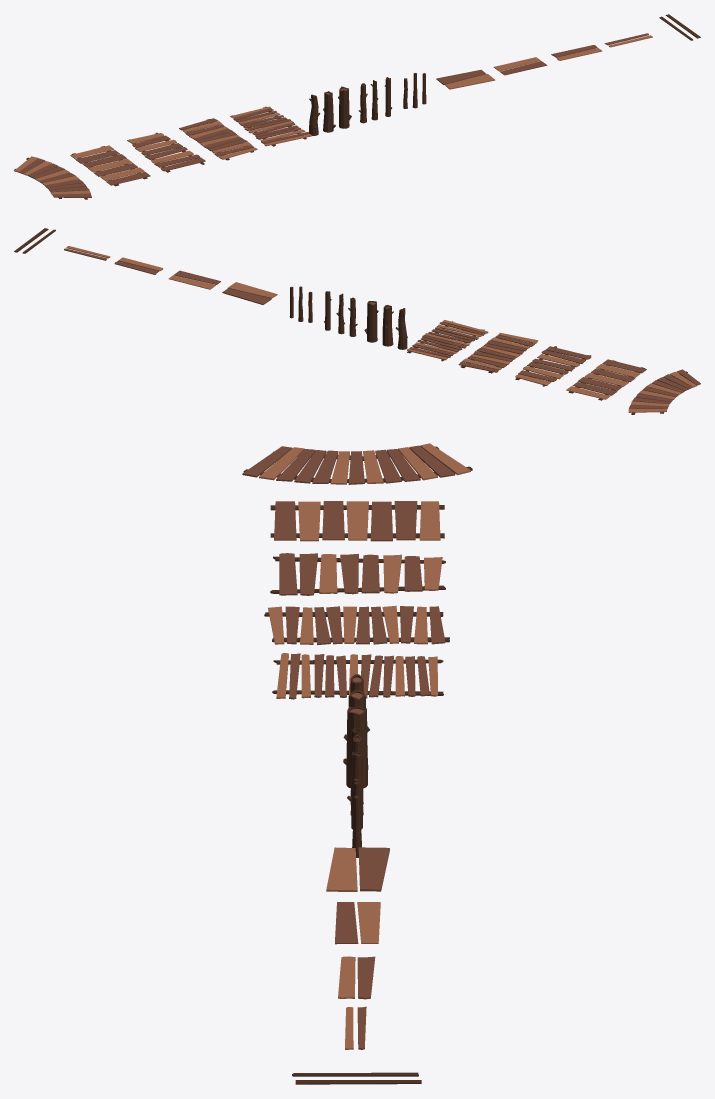
File: Boards.fbx
3 views of the same model, one above another, from view 1: azimuth 30°, elevation 25°; view 2: azimuth 150°, elevation 25°; view 3: azimuth 270°, elevation 25° (orthographic). The views are drawn at different scales.
Visible parts, largest first — view 1: Passage_01, Passage_04, Passage_05, Passage_02, Passage_03, Log_Type 1_01, Log_Type 1_02, Board_Type 4_02, Log_Type 1_03, Board_Type 4_01; view 2: Passage_01, Passage_04, Passage_05, Passage_02, Passage_03, Log_Type 1_01, Log_Type 1_02, Board_Type 4_01, Log_Type 1_03, Board_Type 4_02; view 3: Passage_05, Passage_04, Passage_02, Passage_03, Passage_01, Board_Type 4_01, Board_Type 4_02, Log_Type 1_01.
Part boxes in pixels (x1,y1,x2,y2): Passage_01: [230, 106, 312, 146]; Passage_04: [70, 145, 150, 186]; Passage_05: [14, 156, 91, 199]; Passage_02: [179, 118, 257, 160]; Passage_03: [127, 132, 205, 172]; Log_Type 1_01: [338, 86, 351, 128]; Log_Type 1_02: [323, 91, 335, 132]; Board_Type 4_02: [445, 74, 495, 89]; Log_Type 1_03: [309, 94, 320, 135]; Board_Type 4_01: [436, 69, 485, 84]; Passage_01: [407, 320, 488, 361]; Passage_04: [566, 359, 646, 400]; Passage_05: [628, 369, 700, 414]; Passage_02: [458, 332, 538, 373]; Passage_03: [515, 346, 591, 386]; Log_Type 1_01: [364, 301, 378, 342]; Log_Type 1_02: [382, 305, 393, 346]; Board_Type 4_01: [222, 288, 271, 304]; Log_Type 1_03: [395, 308, 407, 349]; Board_Type 4_02: [227, 282, 277, 298]; Passage_05: [242, 443, 472, 484]; Passage_04: [270, 501, 444, 541]; Passage_02: [264, 605, 449, 645]; Passage_03: [270, 553, 445, 595]; Passage_01: [272, 653, 443, 699]; Board_Type 4_01: [358, 847, 389, 891]; Board_Type 4_02: [326, 847, 357, 891]; Log_Type 1_01: [346, 706, 367, 788].
Size of the model in its own units: 4081 by 235 by 623.
